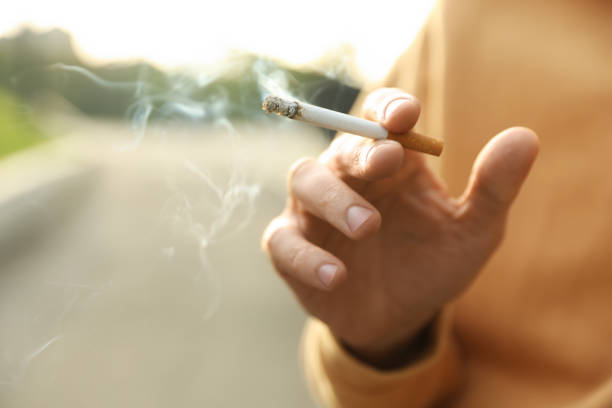cigarette: (261, 91, 444, 159)
